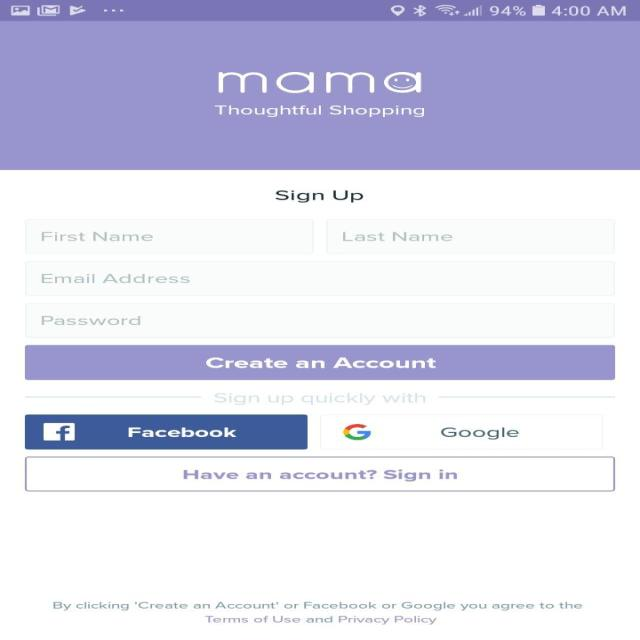EditText: (24, 303, 614, 338), (24, 261, 614, 296), (25, 218, 314, 254), (326, 218, 614, 254)
Image: (216, 71, 422, 94)
Text: (54, 600, 582, 624), (213, 392, 426, 406), (214, 105, 424, 118), (40, 274, 190, 283), (41, 231, 153, 241), (342, 231, 452, 241), (274, 190, 364, 202), (41, 316, 140, 325)
TextButton: (24, 344, 614, 380), (25, 456, 615, 492), (24, 414, 308, 449), (320, 414, 603, 449)
